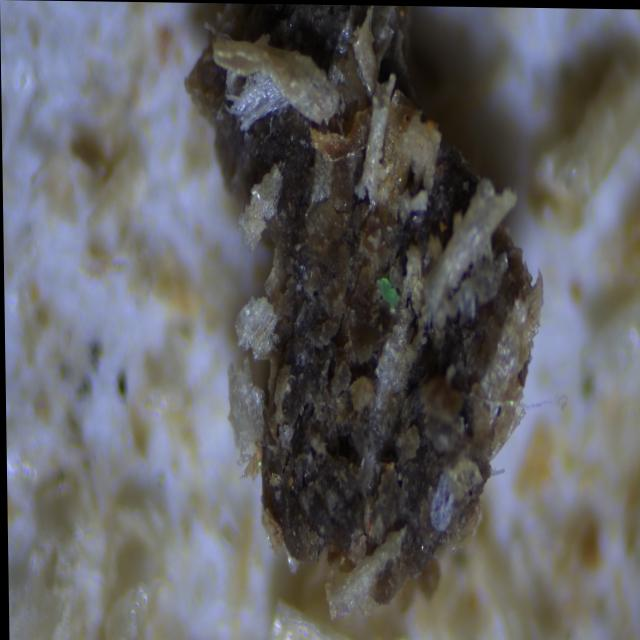microplastic: (375, 271, 403, 310)
